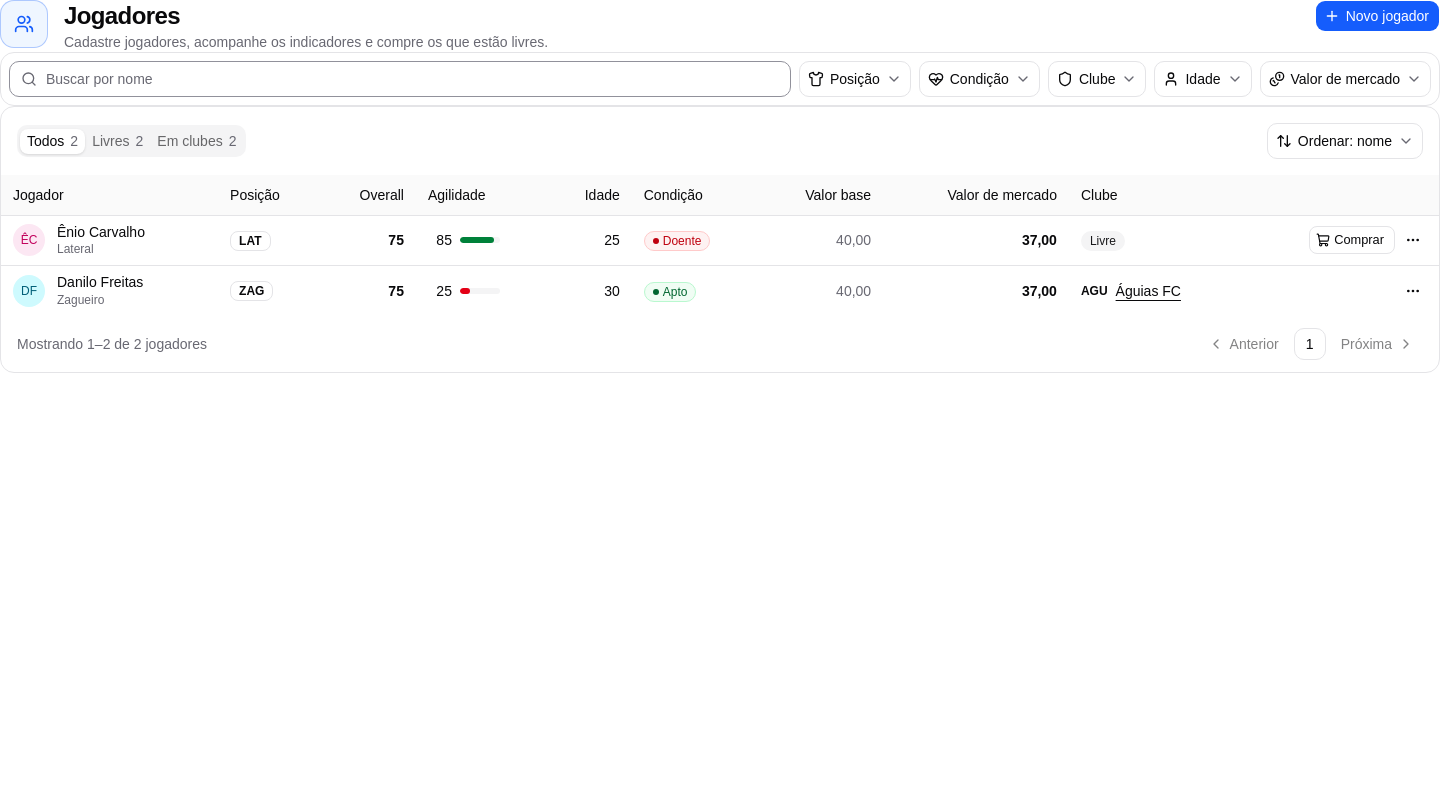
condição de titular › avisa que o titular sai da escalação ao passar a Doente
Click the button named "Ações de Danilo Freitas" at (1413, 291), box [1399, 277, 1427, 305]
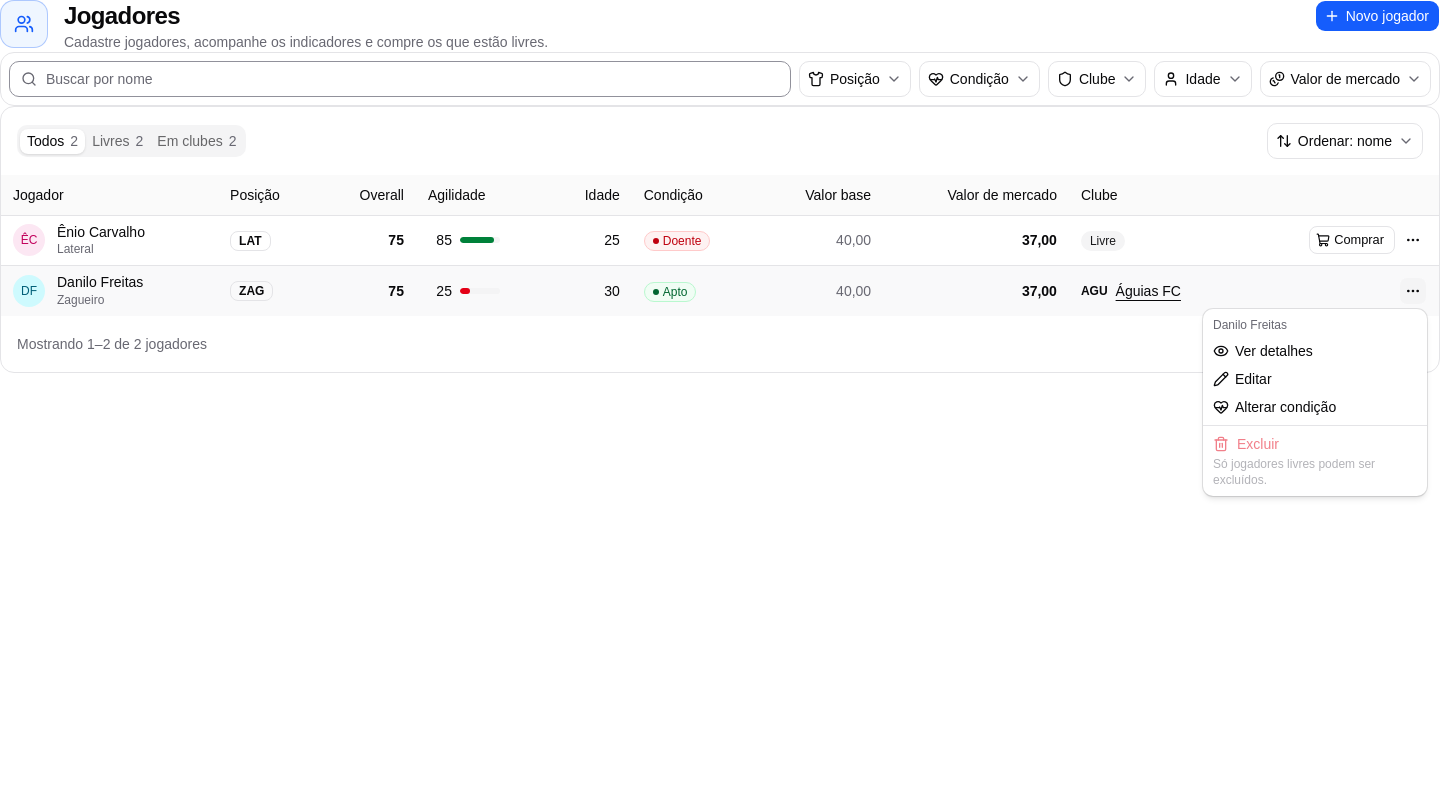
Click the menu item "Alterar condição" at (1275, 407), box [1213, 399, 1336, 415]
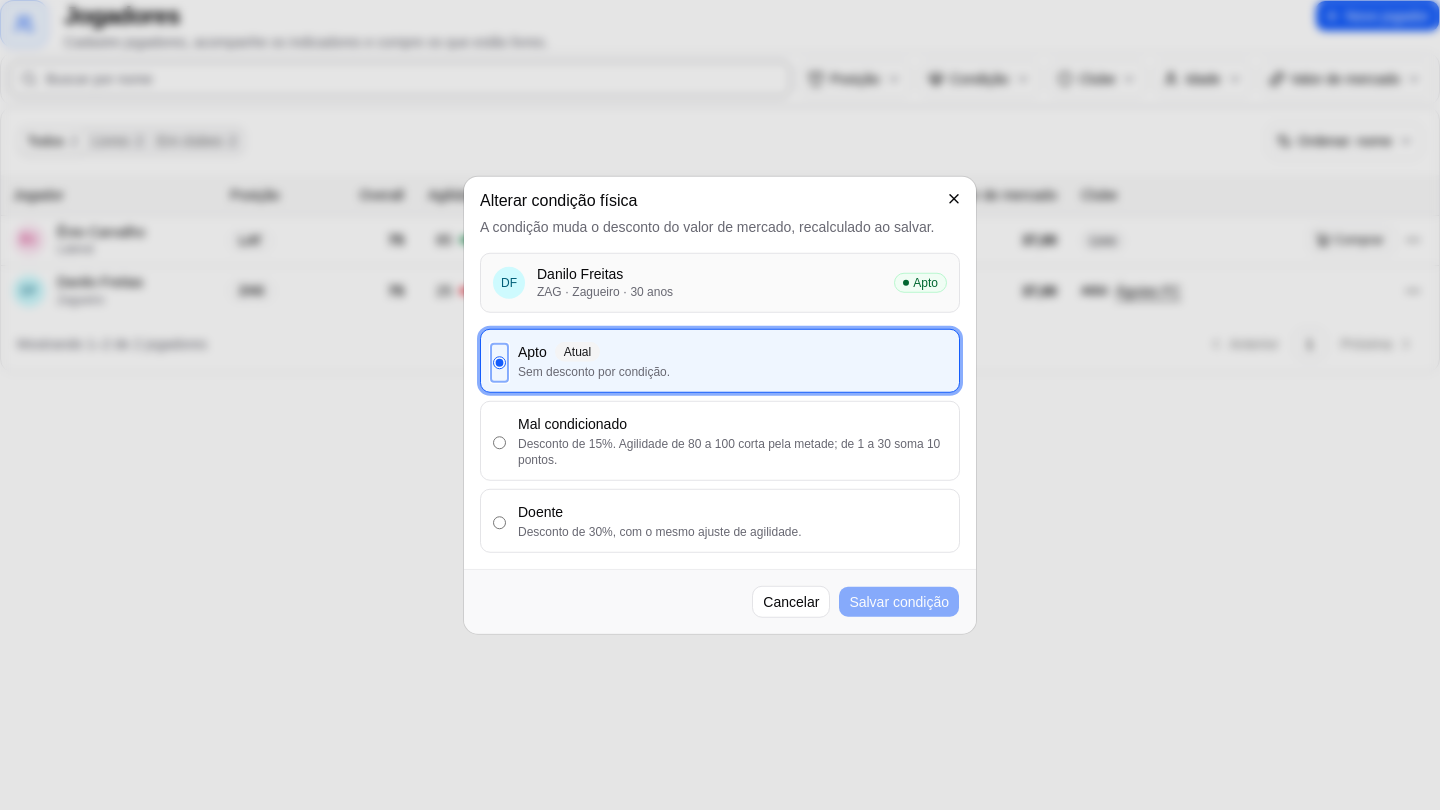
Click the radio button labelled "Doente Desconto de 30%, com o mesmo ajuste de agilidade." at (500, 522), box [493, 505, 506, 539]
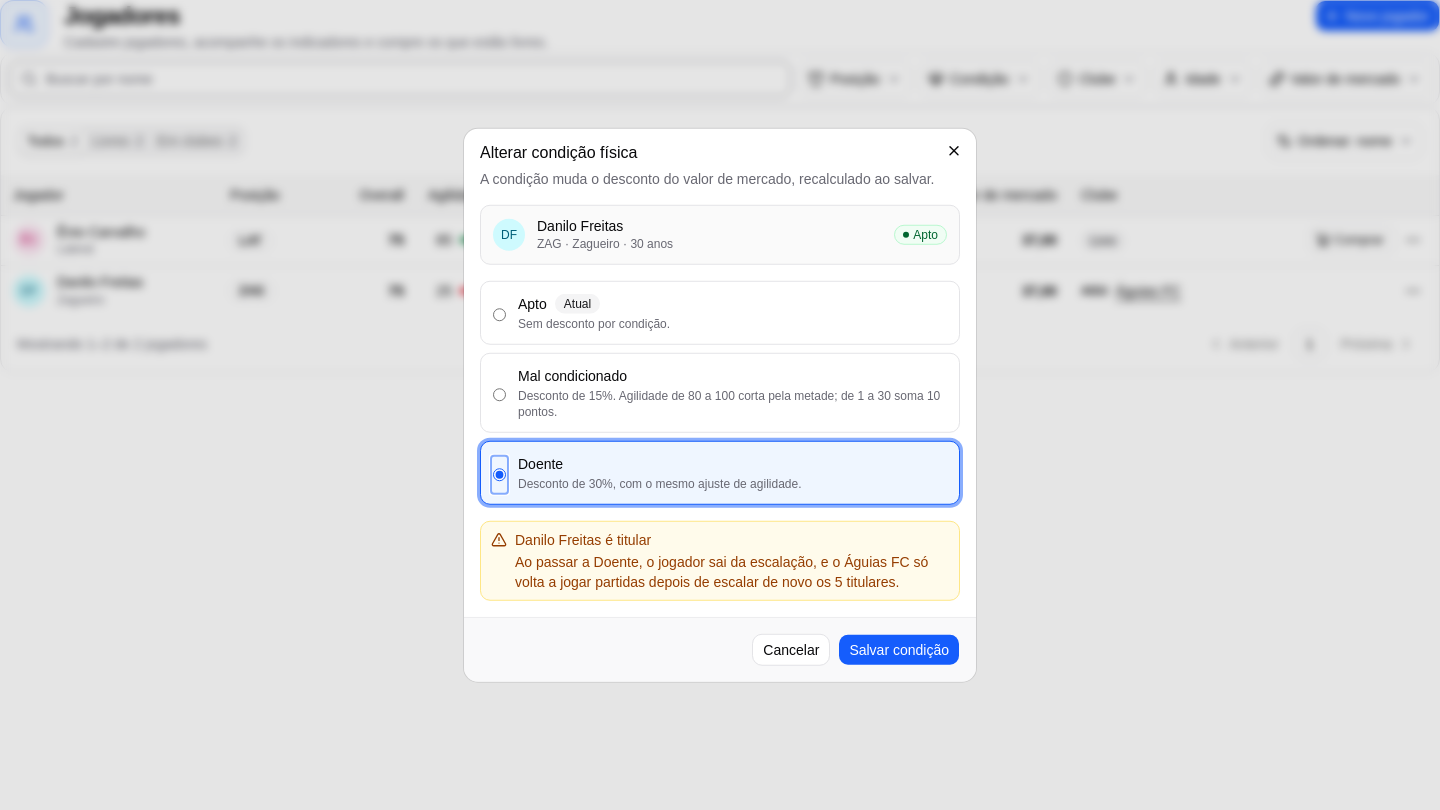
expect the text "Danilo Freitas é titular" is shown: met, box [515, 531, 651, 547]
expect the text "o Águias FC só volta a jogar partidas" is shown: met, box [515, 551, 949, 591]
